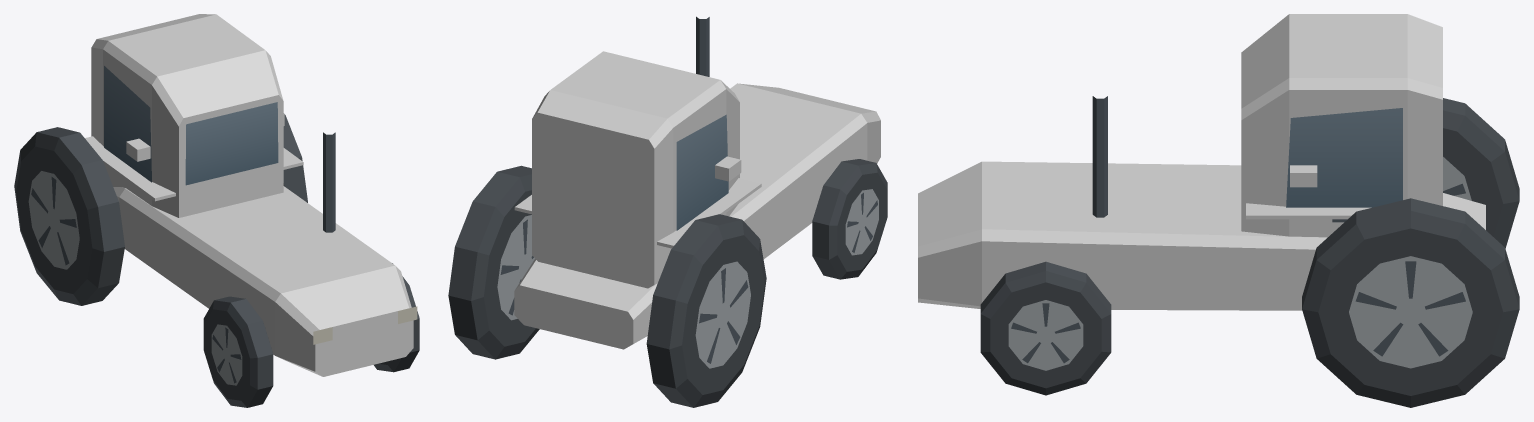
File: tractor.glb
3 views of the same model, side by side, from view 1: azimuth 30°, elevation 25°; view 2: azimuth 150°, elevation 25°; view 3: azimuth 270°, elevation 25° (orthographic). The views are drawn at different scales.
Parts seen in each view (by area): view 1: body; view 2: body; view 3: body.
Part boxes in pixels (bbox=[...]): body: bbox=[14, 14, 419, 407]; body: bbox=[448, 16, 887, 407]; body: bbox=[918, 14, 1519, 407].
Size of the model in its own units: 1.87 by 2.08 by 3.77.
